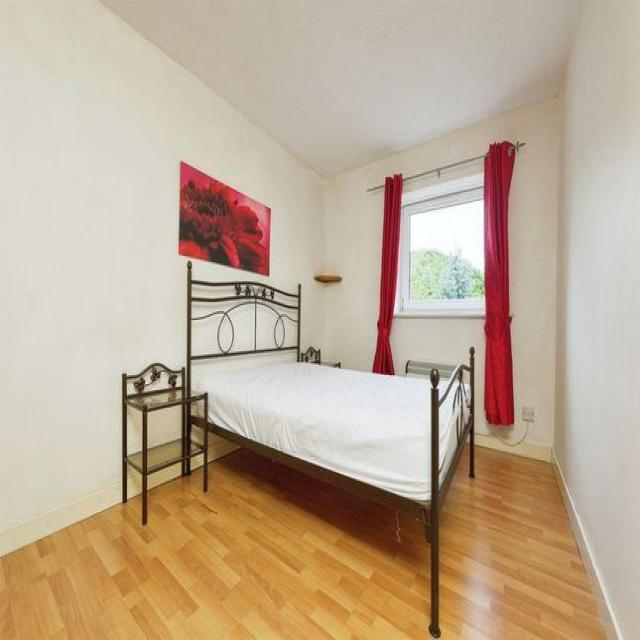Wall: (319, 0, 640, 637), (0, 0, 325, 554), (103, 1, 578, 176), (0, 450, 430, 639), (440, 446, 605, 639), (180, 258, 254, 280), (147, 407, 181, 447), (191, 315, 220, 356), (192, 300, 250, 318), (235, 308, 255, 349), (256, 306, 276, 347), (147, 466, 181, 488), (127, 409, 141, 453), (99, 484, 120, 509), (211, 437, 234, 458), (193, 285, 233, 296), (269, 304, 297, 317), (129, 473, 141, 496), (285, 324, 296, 345), (276, 293, 297, 304), (222, 320, 230, 348), (278, 322, 282, 344)
